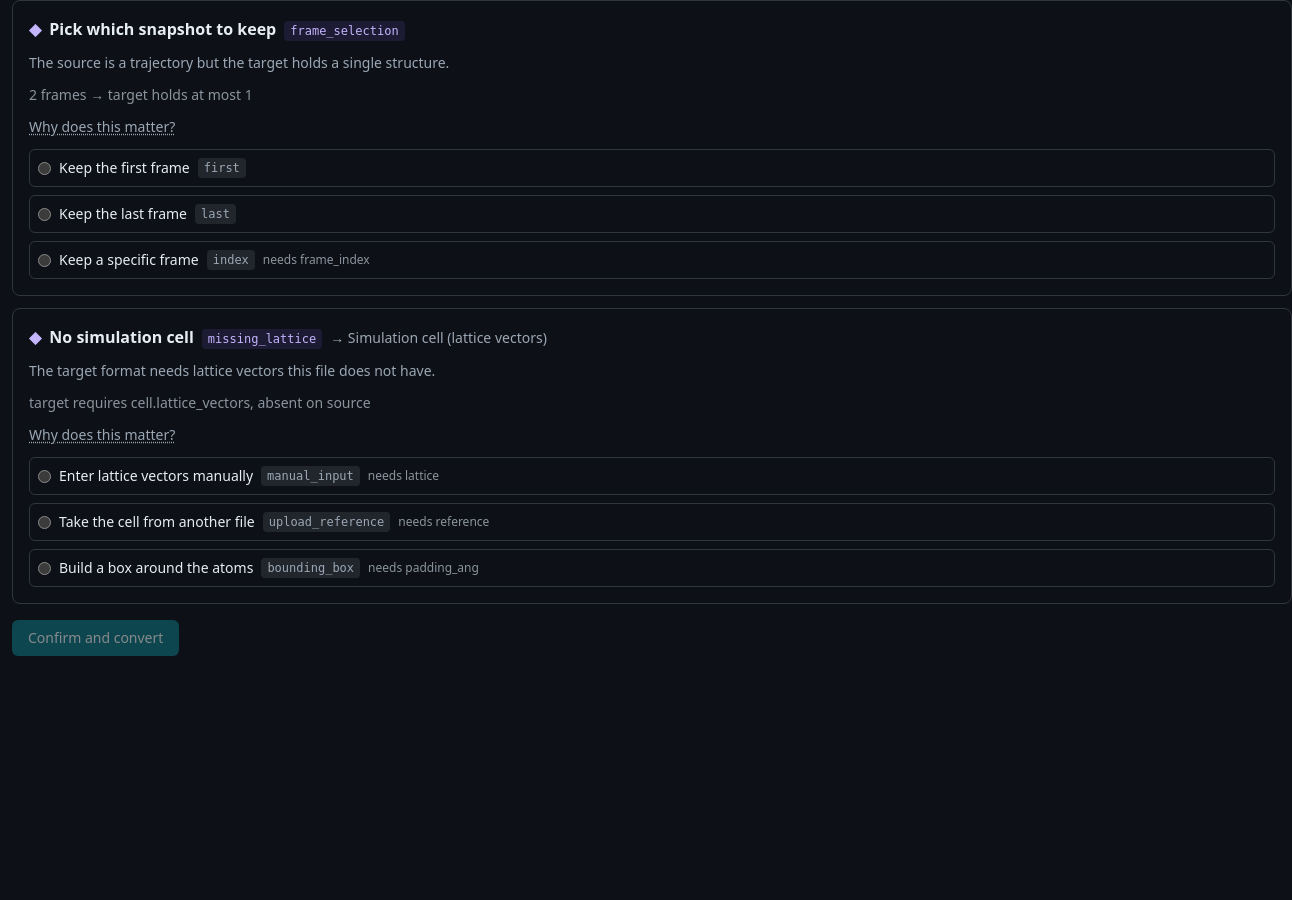
RecoveryWizard › blocks Confirm when the engine still reports an unresolved scenario
Click the radio button labelled "Keep the last frame last": point(44, 214) [38, 208, 51, 220]
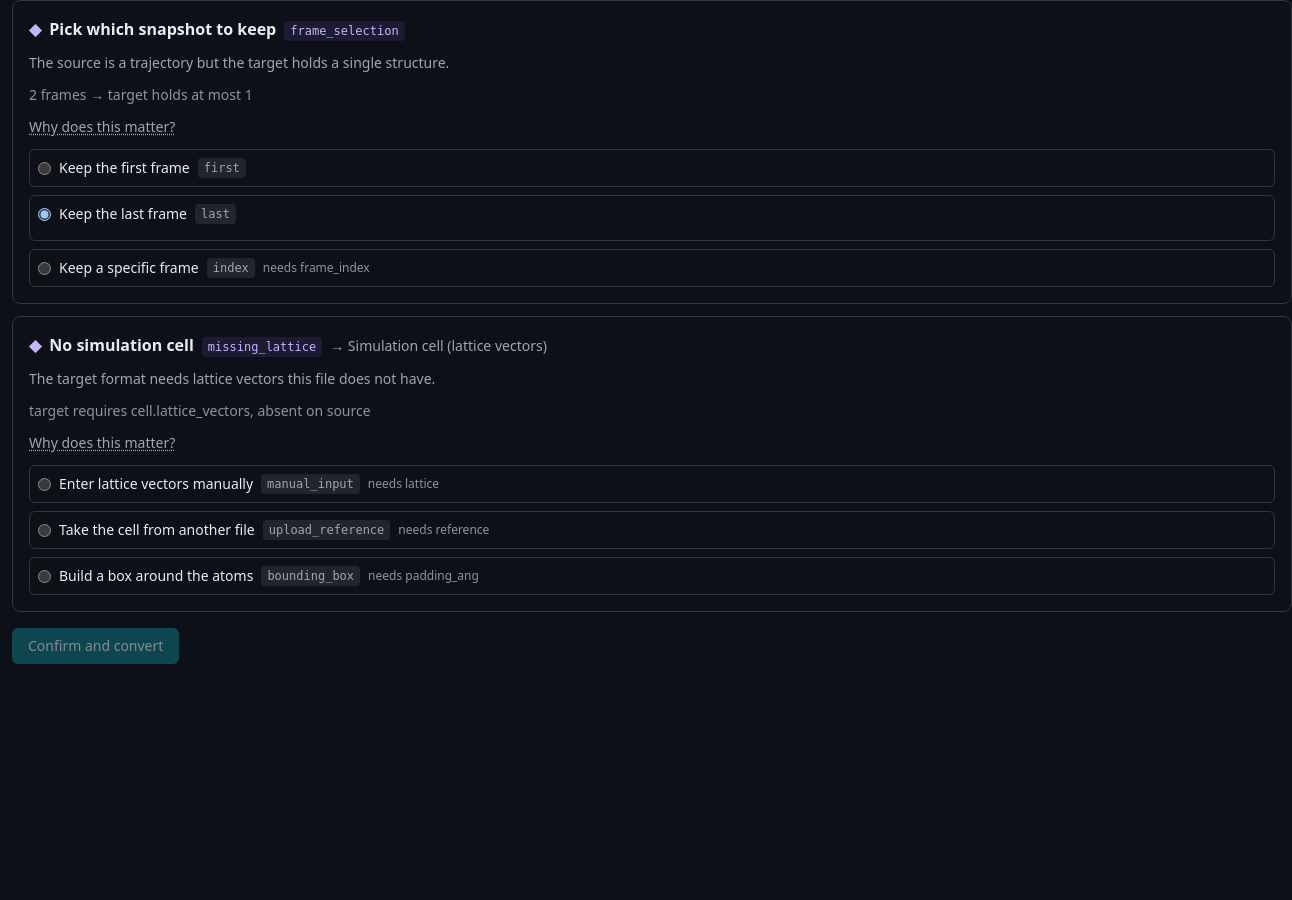
Click the radio button labelled "Build a box around the atoms bounding_box": point(44, 576) [38, 570, 51, 582]
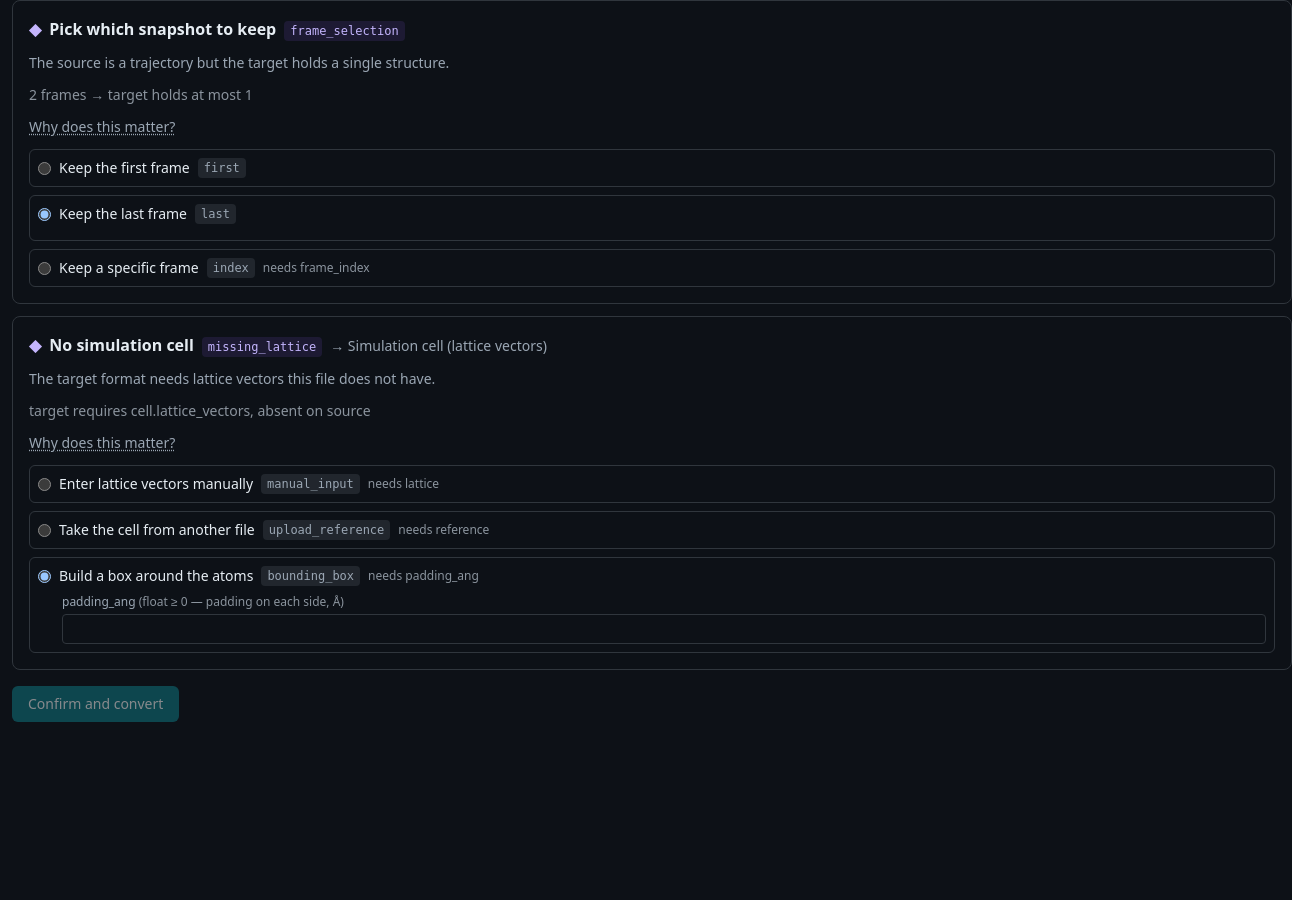
In the number field labelled "padding_ang (float ≥ 0 — padding on each side, Å)": point(664, 629) [62, 614, 1266, 644], type "5"
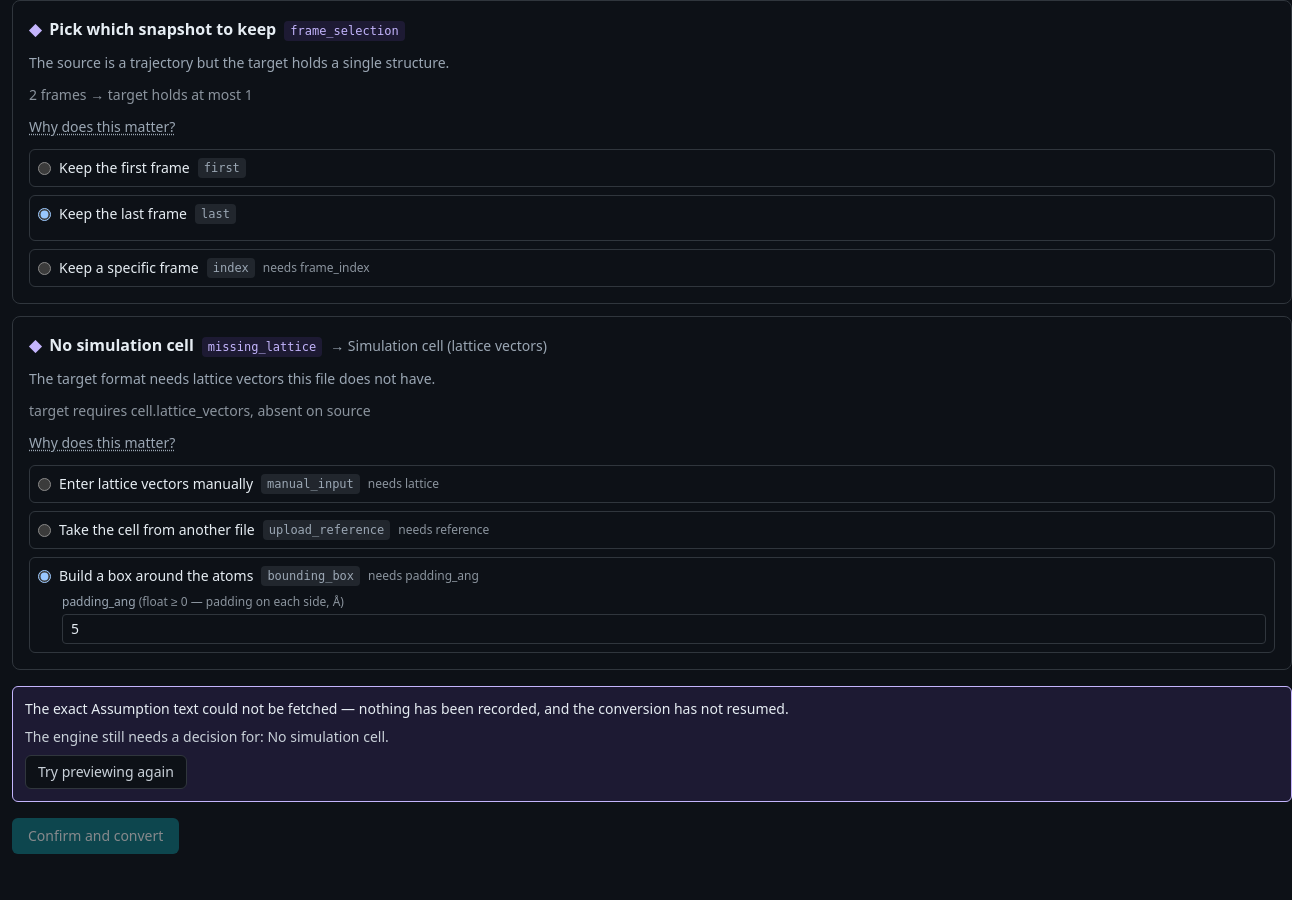
Expected: the button "Confirm and convert" is disabled, [12, 818, 179, 854]
Expected: the message with test id "preview-error" shows "No simulation cell", [268, 727, 385, 746]
